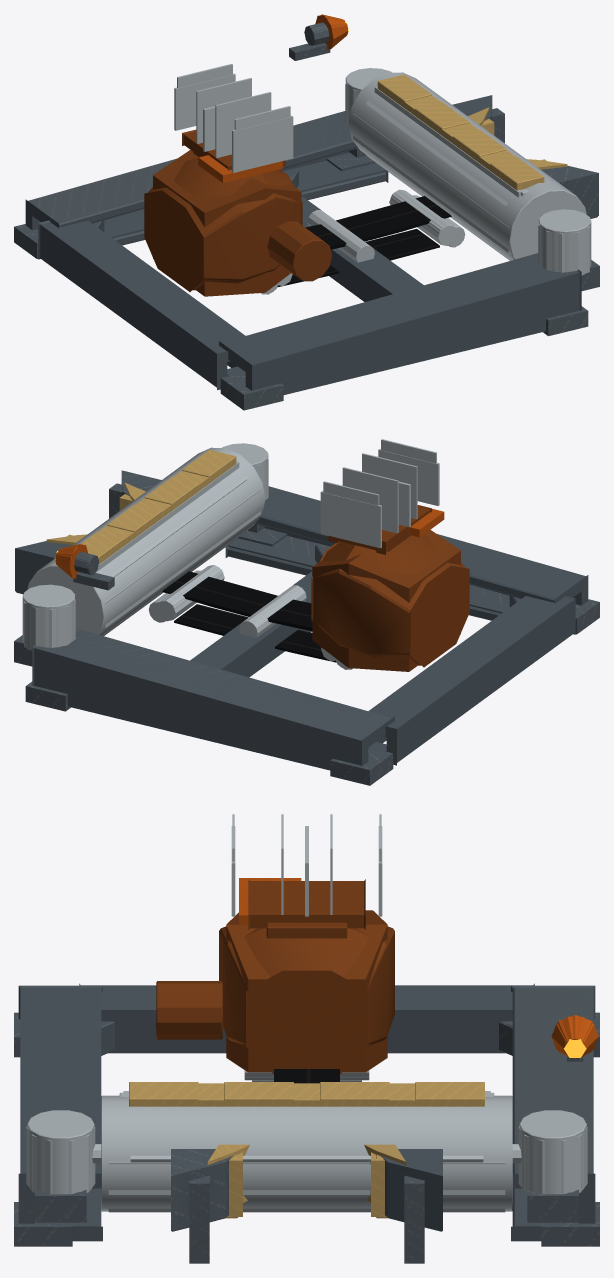
File: place_works_extractor.glb
3 views of the same model, one above another, from view 1: azimuth 30°, elevation 25°; view 2: azimuth 150°, elevation 25°; view 3: azimuth 270°, elevation 25° (orthographic). The views are drawn at different scales.
Parts seen in each view (by area): view 1: LOD0_extractor, LOD1_extractor, LOD0_head, LOD1_head, LOD1_belt, LOD0_belt, LOD1_lamp, LOD0_lamp; view 2: LOD0_extractor, LOD1_extractor, LOD0_head, LOD1_head, LOD1_belt, LOD0_belt, LOD1_lamp, LOD0_lamp; view 3: LOD0_extractor, LOD0_head, LOD1_extractor, LOD1_head, LOD1_belt, LOD0_lamp.
Boxes of the visible parts, x1,y1,x2,y2 form: LOD0_extractor: [14, 64, 588, 410]; LOD1_extractor: [27, 73, 579, 394]; LOD0_head: [345, 68, 598, 289]; LOD1_head: [345, 82, 599, 290]; LOD1_belt: [260, 189, 457, 294]; LOD0_belt: [261, 190, 465, 294]; LOD1_lamp: [289, 15, 348, 60]; LOD0_lamp: [305, 14, 347, 49]; LOD0_extractor: [25, 439, 599, 785]; LOD1_extractor: [34, 449, 587, 770]; LOD0_head: [15, 443, 268, 665]; LOD1_head: [14, 457, 268, 666]; LOD1_belt: [156, 565, 353, 669]; LOD0_belt: [148, 565, 352, 669]; LOD1_lamp: [55, 544, 114, 590]; LOD0_lamp: [55, 543, 98, 579]; LOD0_extractor: [14, 814, 599, 1246]; LOD0_head: [27, 1082, 586, 1262]; LOD1_extractor: [20, 826, 593, 1239]; LOD1_head: [26, 1083, 587, 1263]; LOD1_belt: [244, 1069, 369, 1083]; LOD0_lamp: [552, 1016, 598, 1058].
Bounding box in the file's own units: 1.68 × 0.8 × 1.6.
Materials: 4 (4 with a texture image).
